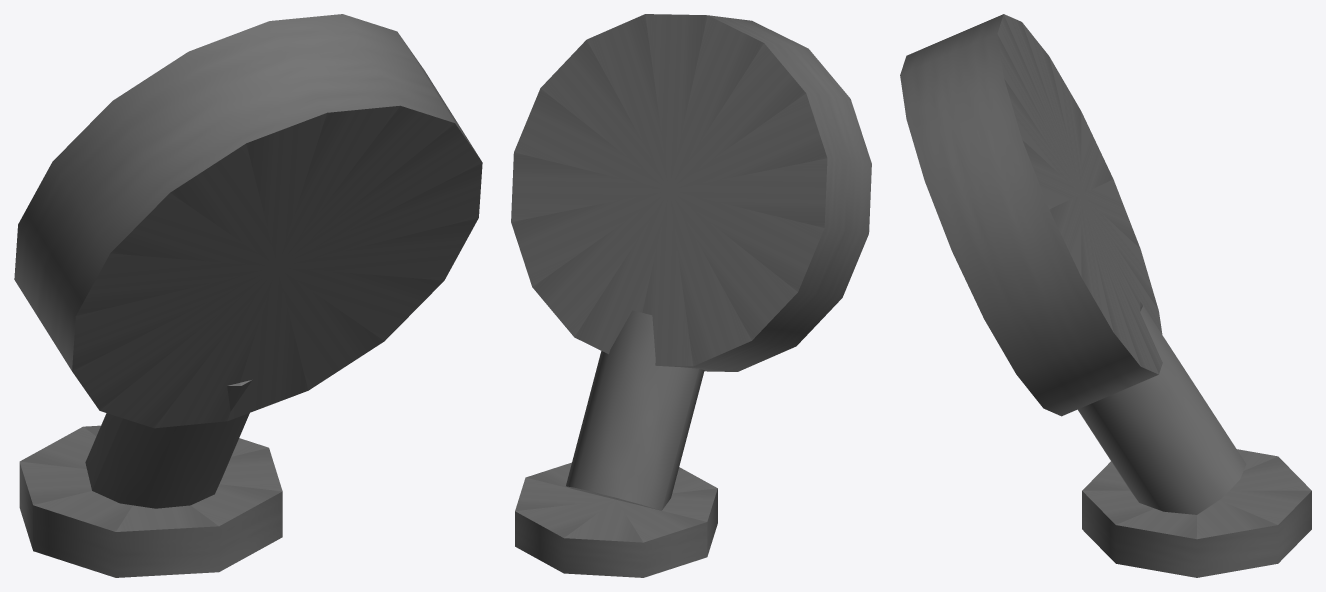
Rendered from mastarmcurve_4x1_c0_ped_down.obj.
The picture shows the model from 3 angles, left to right: view 1: azimuth 30°, elevation 25°; view 2: azimuth 150°, elevation 25°; view 3: azimuth 270°, elevation 25°; orthographic projection. The views are drawn at different scales.
Visible parts, largest first — view 1: mastarm_4x1_c0_ped_down; view 2: mastarm_4x1_c0_ped_down; view 3: mastarm_4x1_c0_ped_down.
Part boxes in pixels (box(x1,y1,x2,y2)): mastarm_4x1_c0_ped_down: box(14, 14, 482, 577); mastarm_4x1_c0_ped_down: box(511, 14, 871, 577); mastarm_4x1_c0_ped_down: box(900, 14, 1311, 577).
Bounding box in the file's own units: 0.6835 × 0.9525 × 0.7169.
